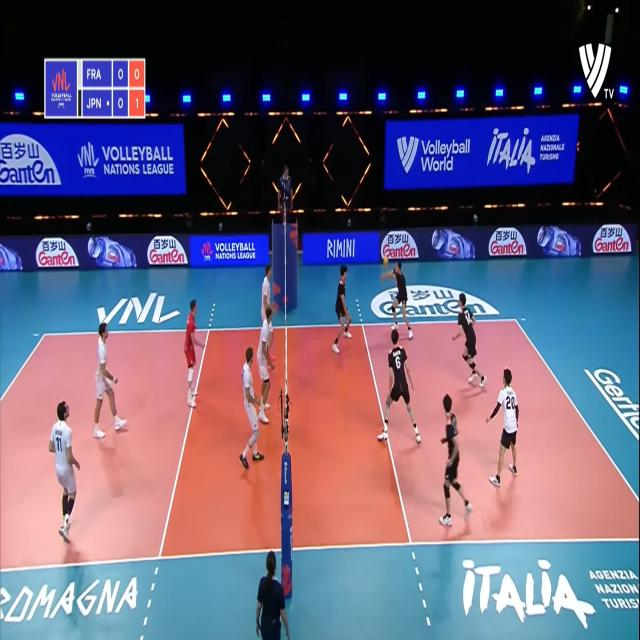player: (379, 328, 424, 453), (49, 398, 83, 549), (439, 389, 473, 530), (488, 361, 522, 492), (92, 318, 128, 439), (453, 289, 490, 397), (237, 346, 269, 468), (183, 292, 208, 413), (331, 253, 356, 362), (386, 255, 417, 338), (256, 307, 276, 421), (259, 260, 283, 323)
